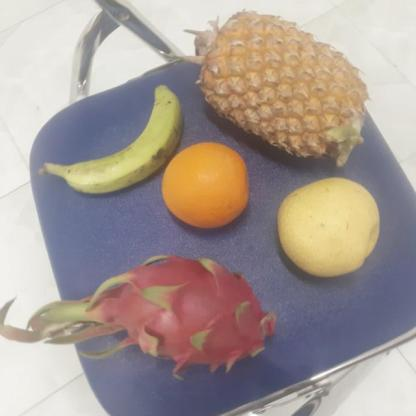banana: (56, 87, 190, 196)
guava: (278, 179, 384, 279), (161, 143, 253, 229)
pineapple: (202, 17, 370, 170)
pitaya: (93, 252, 289, 374)
